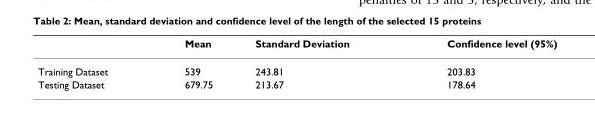table: (37, 36, 556, 89)
table column: (233, 36, 397, 89), (397, 36, 556, 89), (37, 36, 145, 89), (145, 36, 233, 89)
table column header: (37, 36, 556, 57)
table row: (37, 36, 556, 57), (37, 57, 556, 77), (37, 77, 556, 89)
